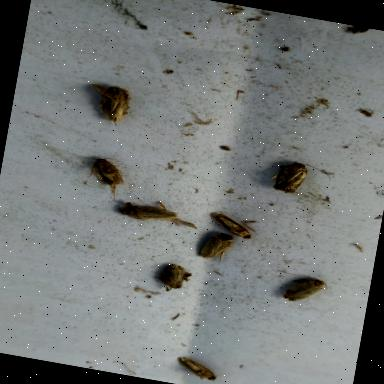pbw: (117, 196, 201, 231), (271, 159, 333, 200), (74, 153, 132, 196), (84, 82, 136, 128), (282, 270, 332, 308), (209, 210, 260, 242), (198, 229, 237, 263), (155, 262, 194, 294), (174, 356, 220, 380)
